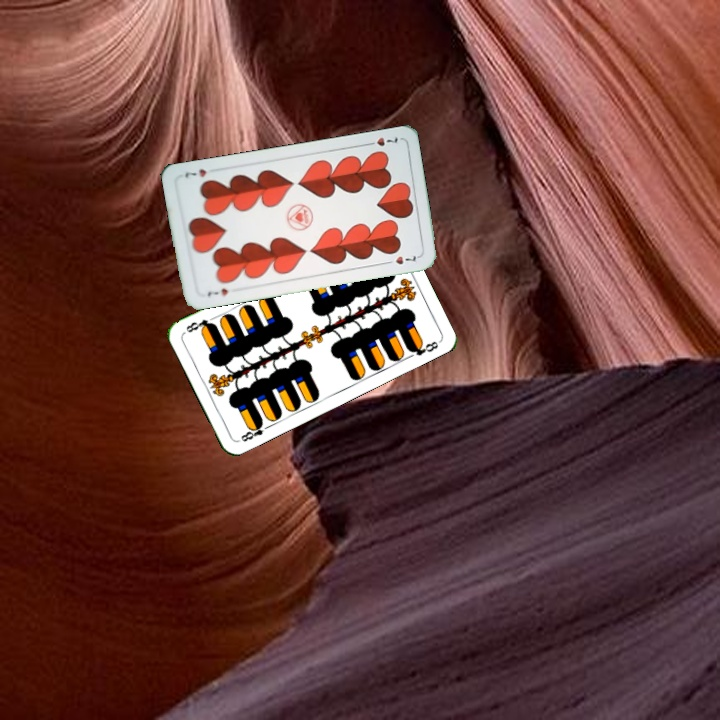E8: (237, 417, 273, 444)
H7: (362, 131, 401, 149), (203, 284, 230, 299)
